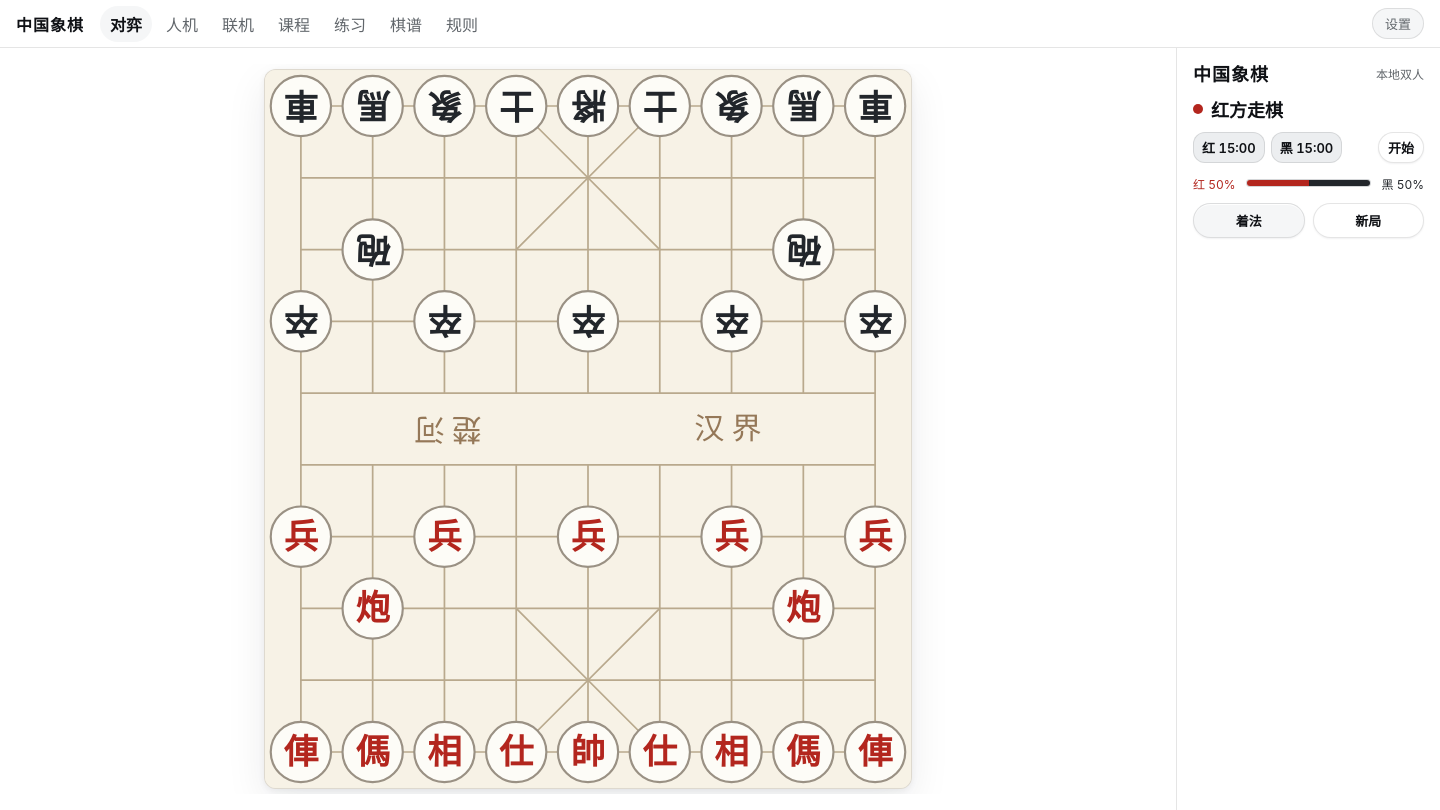
F1-8 面板记谱输入走子 › 输入「炮二平五」回车后炮落到中路，着法记录出现该步
The image size is (1440, 810).
Step 1. Click the button "着法" → (1249, 220), box [1193,203,1304,238]
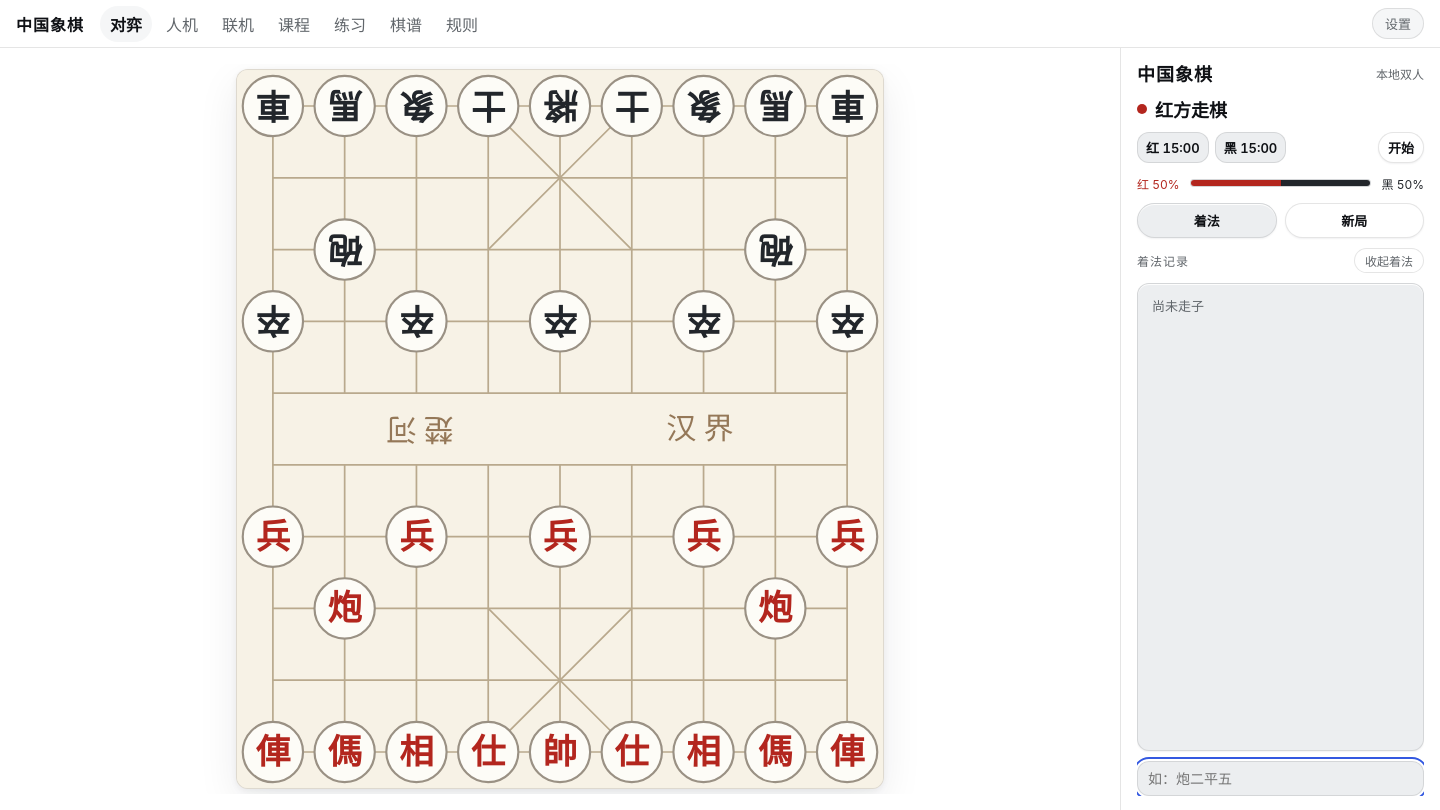
Step 2. Type "炮二平五" into the field named "记谱输入" → (1280, 778), box [1137,761,1424,796]
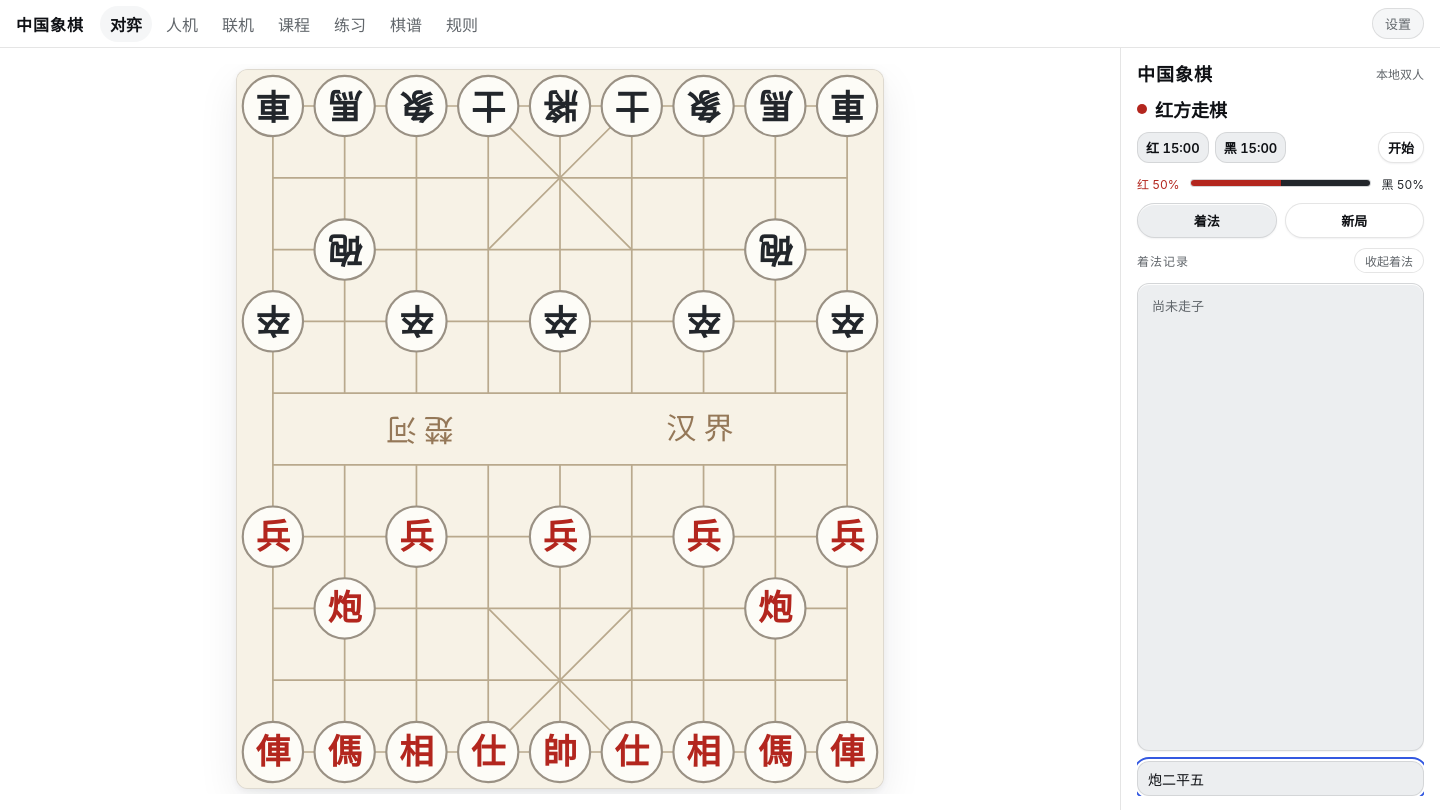
Step 3. Press Enter in the field named "记谱输入", box [1137,761,1424,796]
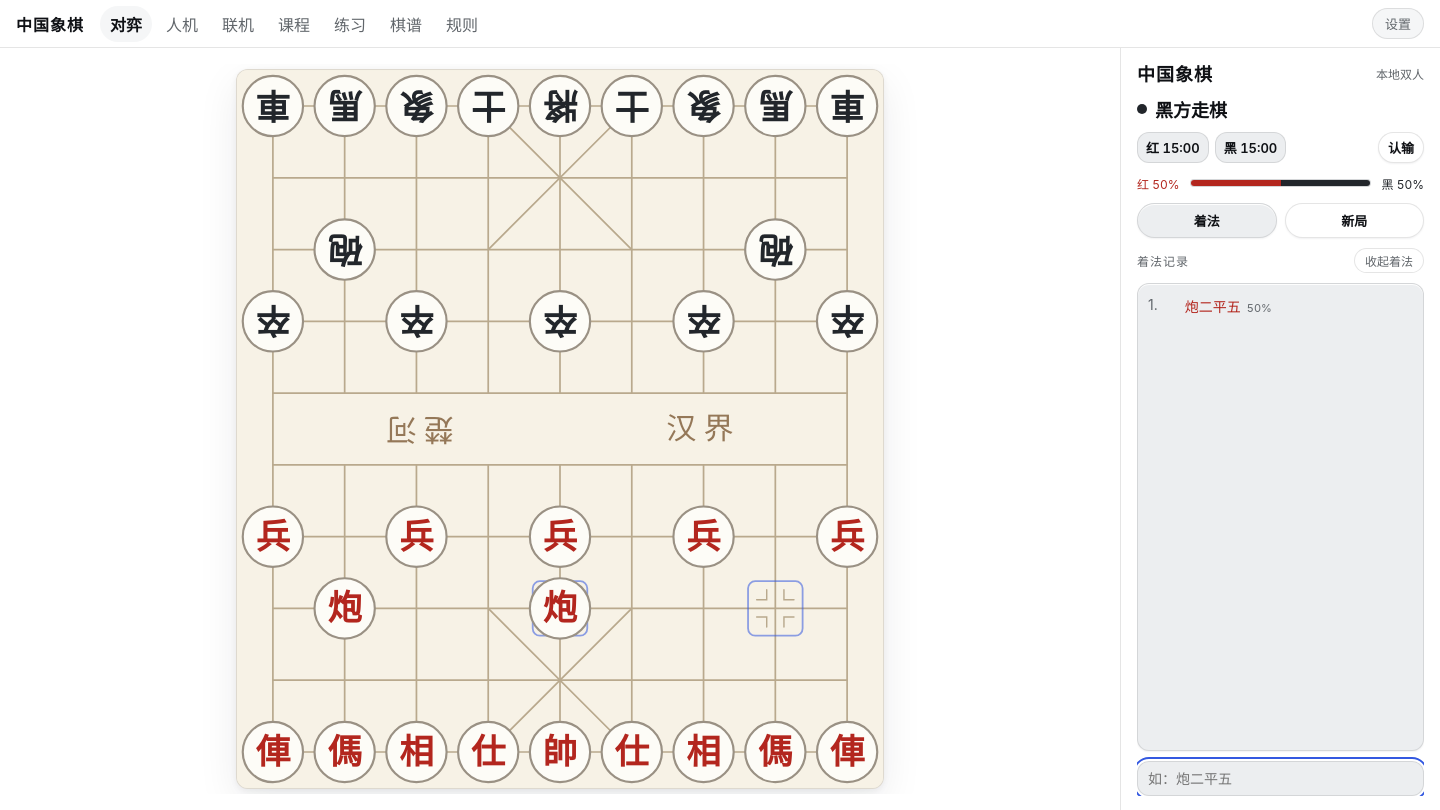
expect the message with class "status-line" reads "黑方走棋": met, box [1155,100,1227,121]
expect the field named "记谱输入" is empty: met, box [1137,761,1424,796]
